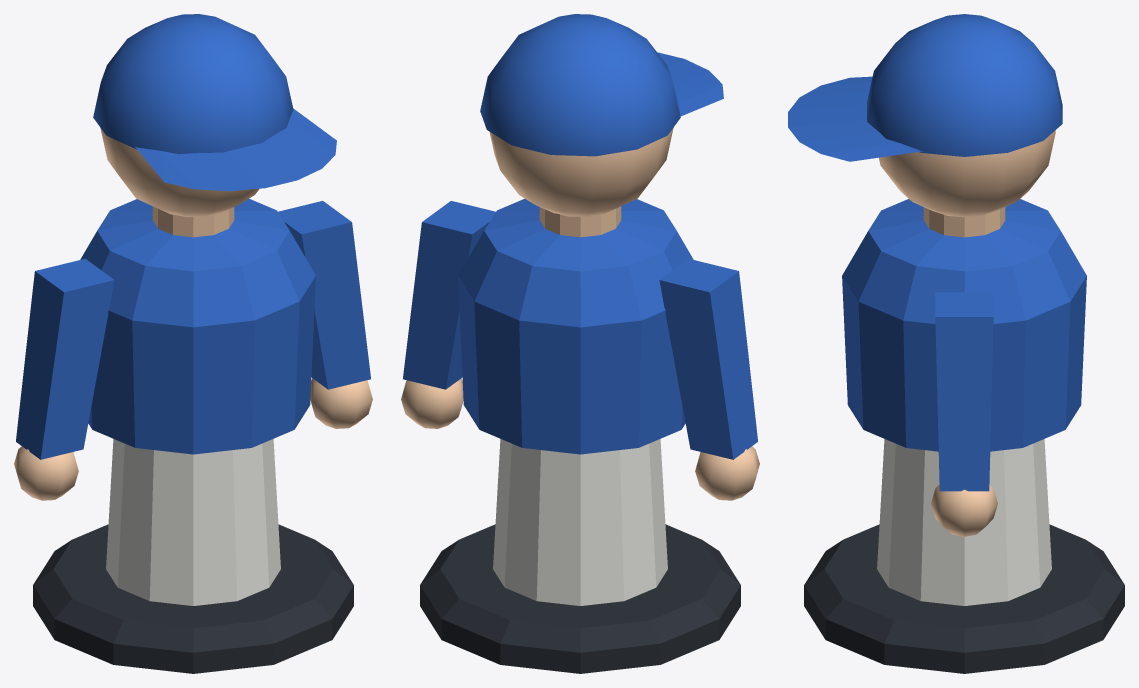
The model's file is player_blue.obj.
3 views of the same model, side by side, from view 1: azimuth 30°, elevation 25°; view 2: azimuth 150°, elevation 25°; view 3: azimuth 270°, elevation 25° (orthographic).
Visible parts, largest first — view 1: team_blue, fig_base, pants, skin; view 2: team_blue, fig_base, pants, skin; view 3: team_blue, fig_base, pants, skin.
Boxes of the visible parts, x1=… form: team_blue: x1=16, y1=14, x2=370, y2=459; fig_base: x1=33, y1=524, x2=353, y2=673; pants: x1=106, y1=439, x2=280, y2=605; skin: x1=14, y1=128, x2=372, y2=500; team_blue: x1=403, y1=14, x2=757, y2=459; fig_base: x1=420, y1=524, x2=740, y2=673; pants: x1=493, y1=439, x2=667, y2=605; skin: x1=401, y1=128, x2=759, y2=500; team_blue: x1=788, y1=14, x2=1086, y2=491; fig_base: x1=804, y1=524, x2=1124, y2=673; pants: x1=877, y1=439, x2=1051, y2=605; skin: x1=879, y1=130, x2=1055, y2=536.
Size of the model in its own units: 1.39 by 2.2 by 1.16.
